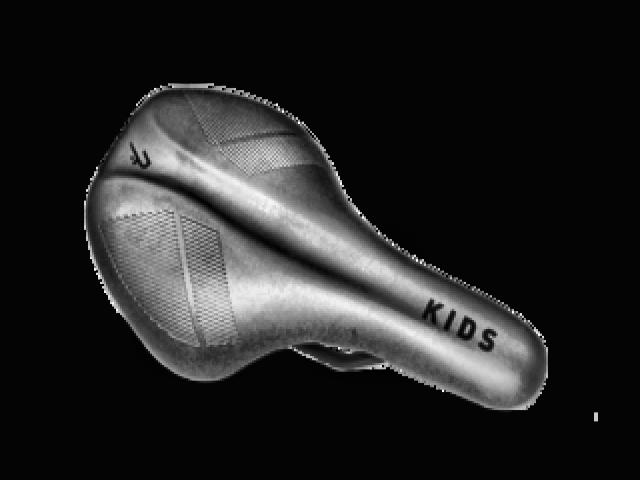saddle: (80, 81, 554, 424)
